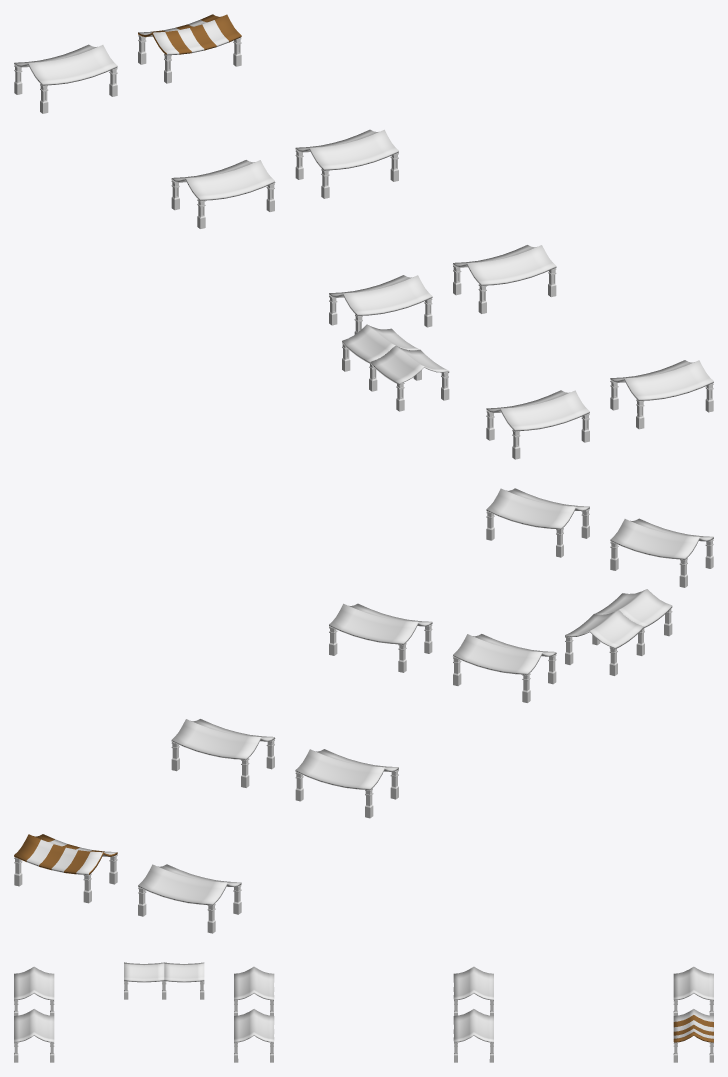
The model's file is lvl3_world1_fixes2.fbx.
3 renders of one model, top to bottom at view 1: azimuth 30°, elevation 25°; view 2: azimuth 150°, elevation 25°; view 3: azimuth 270°, elevation 25°, orthographic. The views are drawn at different scales.
Parts seen in each view (by area): view 1: tents; view 2: tents; view 3: tents.
Part boxes in pixels (left/top/right/bottom): tents: left=14, top=14, right=713, bottom=459; tents: left=14, top=488, right=713, bottom=933; tents: left=14, top=962, right=713, bottom=1062.
Bounding box in the file's own units: 9524 × 1588 × 35013.
